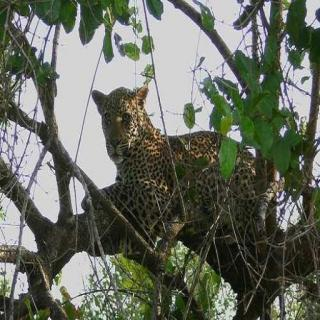Leopard: (83, 73, 296, 262)
